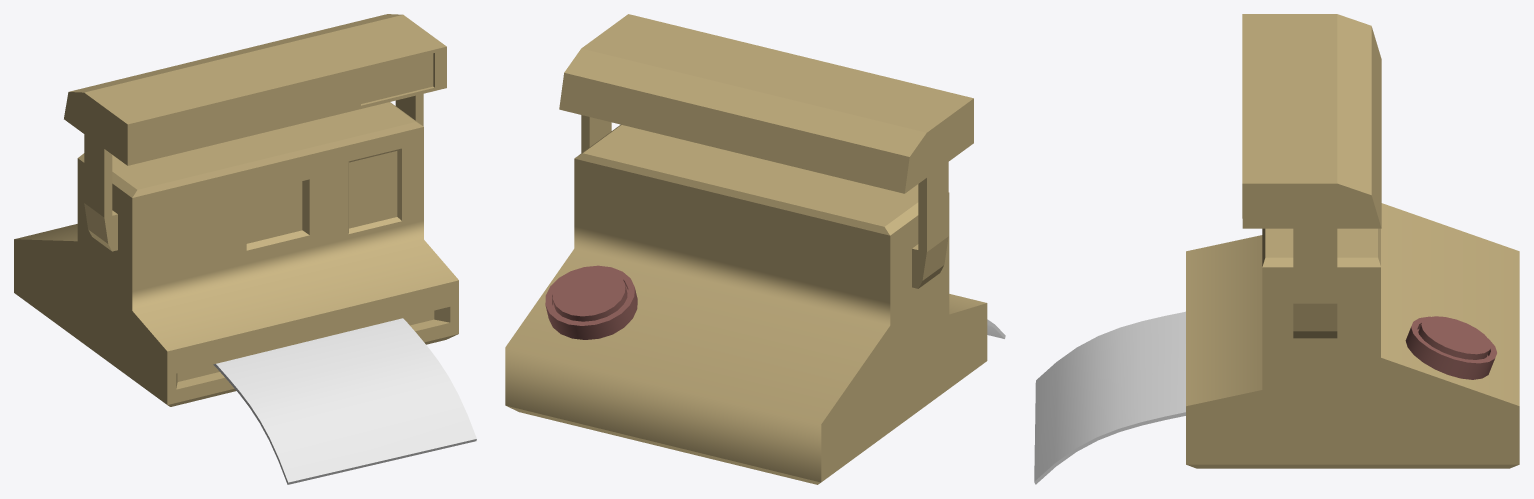
Rendered from Camera.fbx.
3 renders of one model, left to right at view 1: azimuth 30°, elevation 25°; view 2: azimuth 150°, elevation 25°; view 3: azimuth 270°, elevation 25°, orthographic. The views are drawn at different scales.
Parts seen in each view (by area): view 1: Camera, Paper; view 2: Camera, pCylinder1, pCylinder2; view 3: Camera, Paper, pCylinder1, pCylinder2.
Boxes of the visible parts, <box> form: Camera: <box>14,14,458,406</box>; Paper: <box>213,318,476,484</box>; Camera: <box>505,14,987,484</box>; pCylinder1: <box>552,267,627,321</box>; pCylinder2: <box>545,265,637,339</box>; Camera: <box>1186,14,1519,468</box>; Paper: <box>1034,311,1185,484</box>; pCylinder1: <box>1418,316,1491,359</box>; pCylinder2: <box>1405,316,1496,379</box>.
Size of the model in its own units: 21.88 by 20.24 by 26.48.
